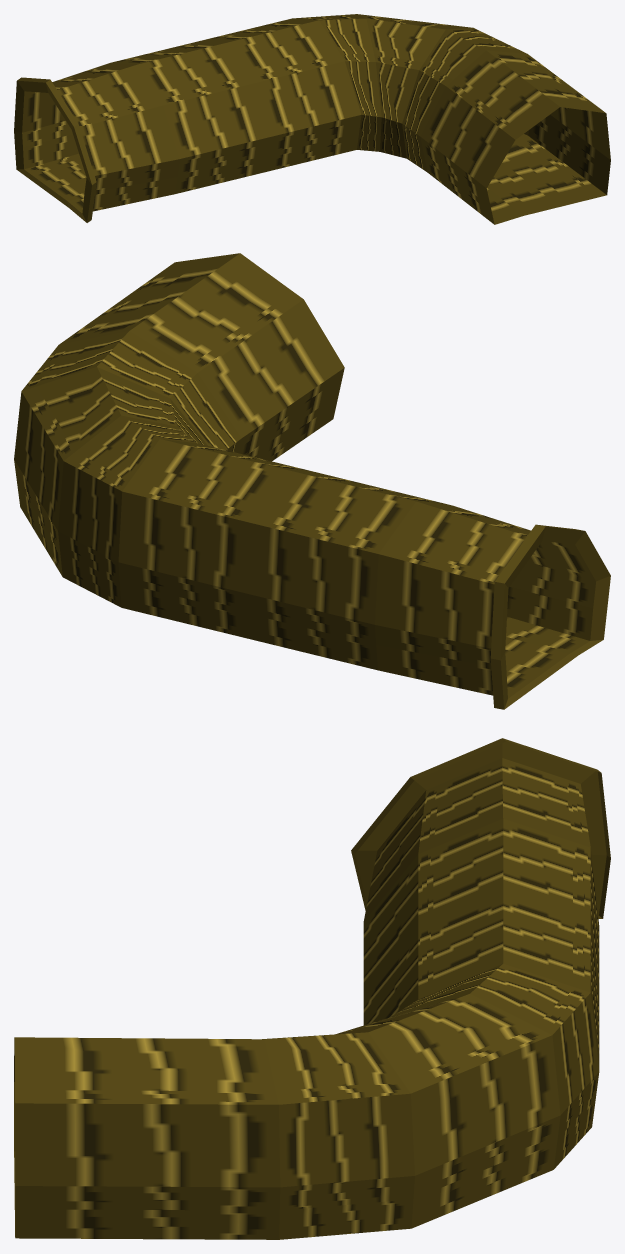
Rendered from cordr.fbx.
3 renders of one model, top to bottom at view 1: azimuth 30°, elevation 25°; view 2: azimuth 150°, elevation 25°; view 3: azimuth 270°, elevation 25°, orthographic. The views are drawn at different scales.
Visible parts, largest first — view 1: Plane.001; view 2: Plane.001; view 3: Plane.001.
Boxes of the visible parts, bbox=[...] form: Plane.001: bbox=[14, 14, 610, 224]; Plane.001: bbox=[14, 253, 610, 709]; Plane.001: bbox=[14, 738, 610, 1239].
Bounding box in the file's own units: 6882 × 1750 × 5198.
